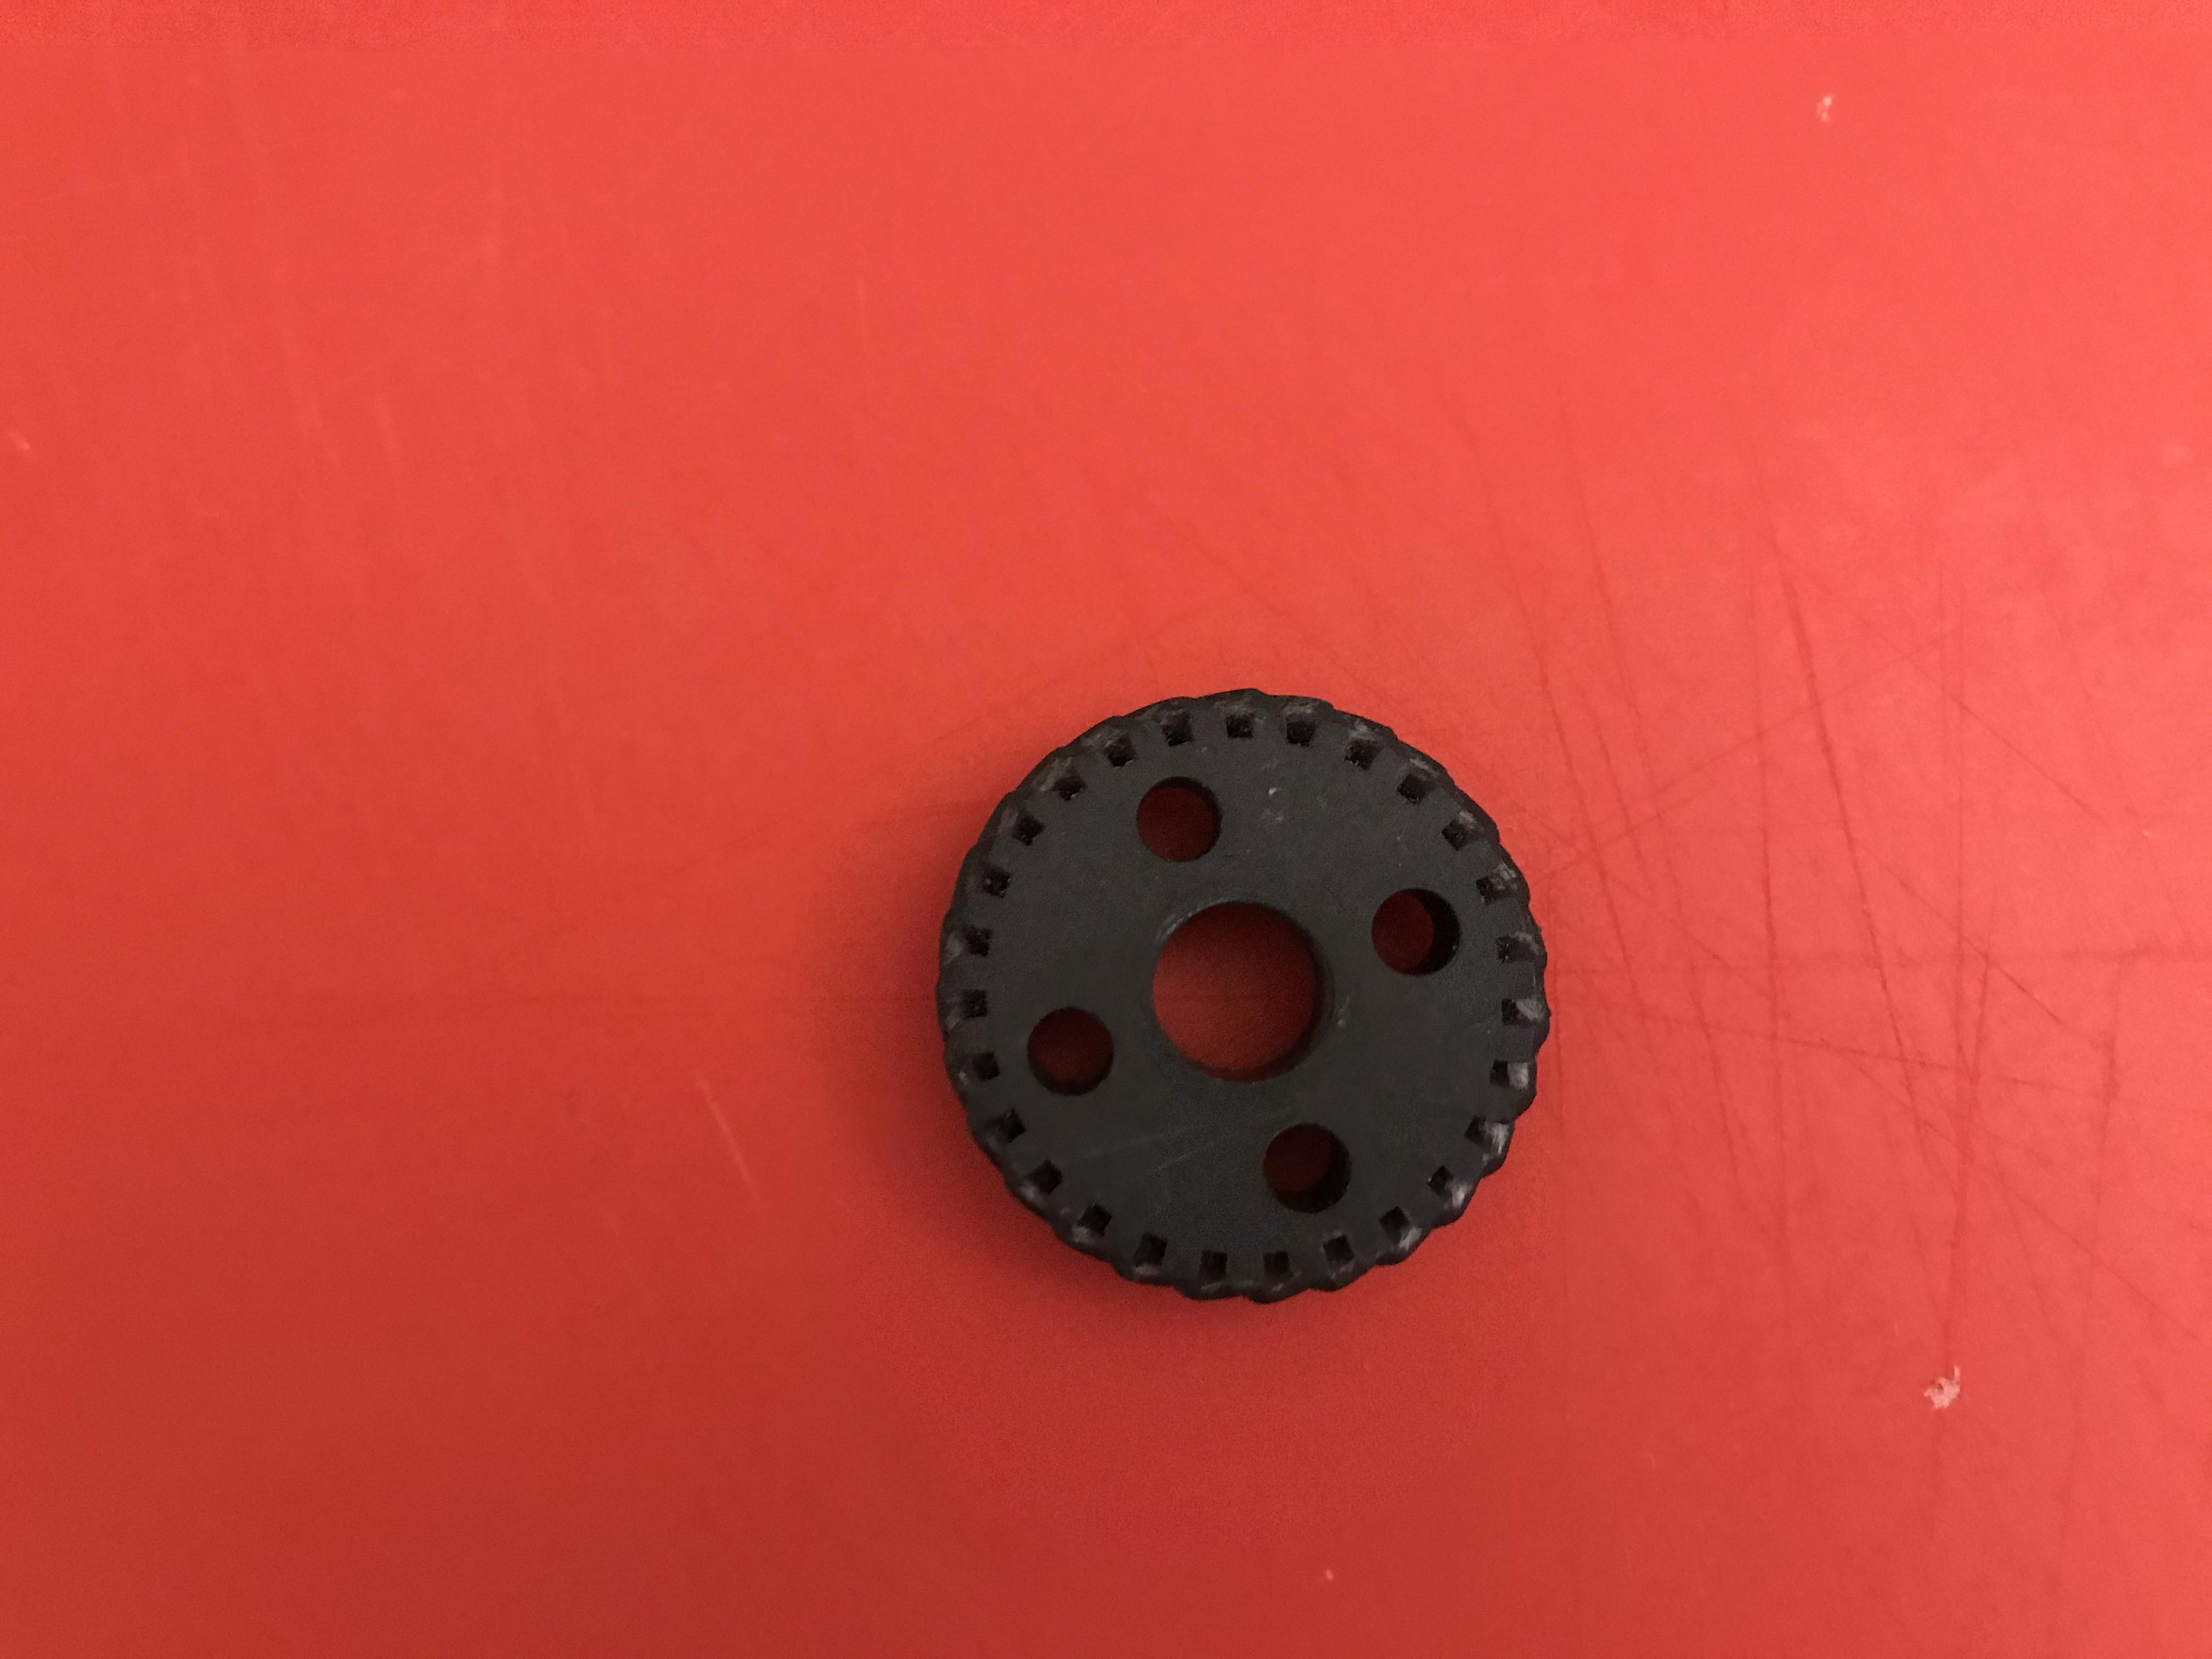Wheel: (930, 681, 1559, 1321)
